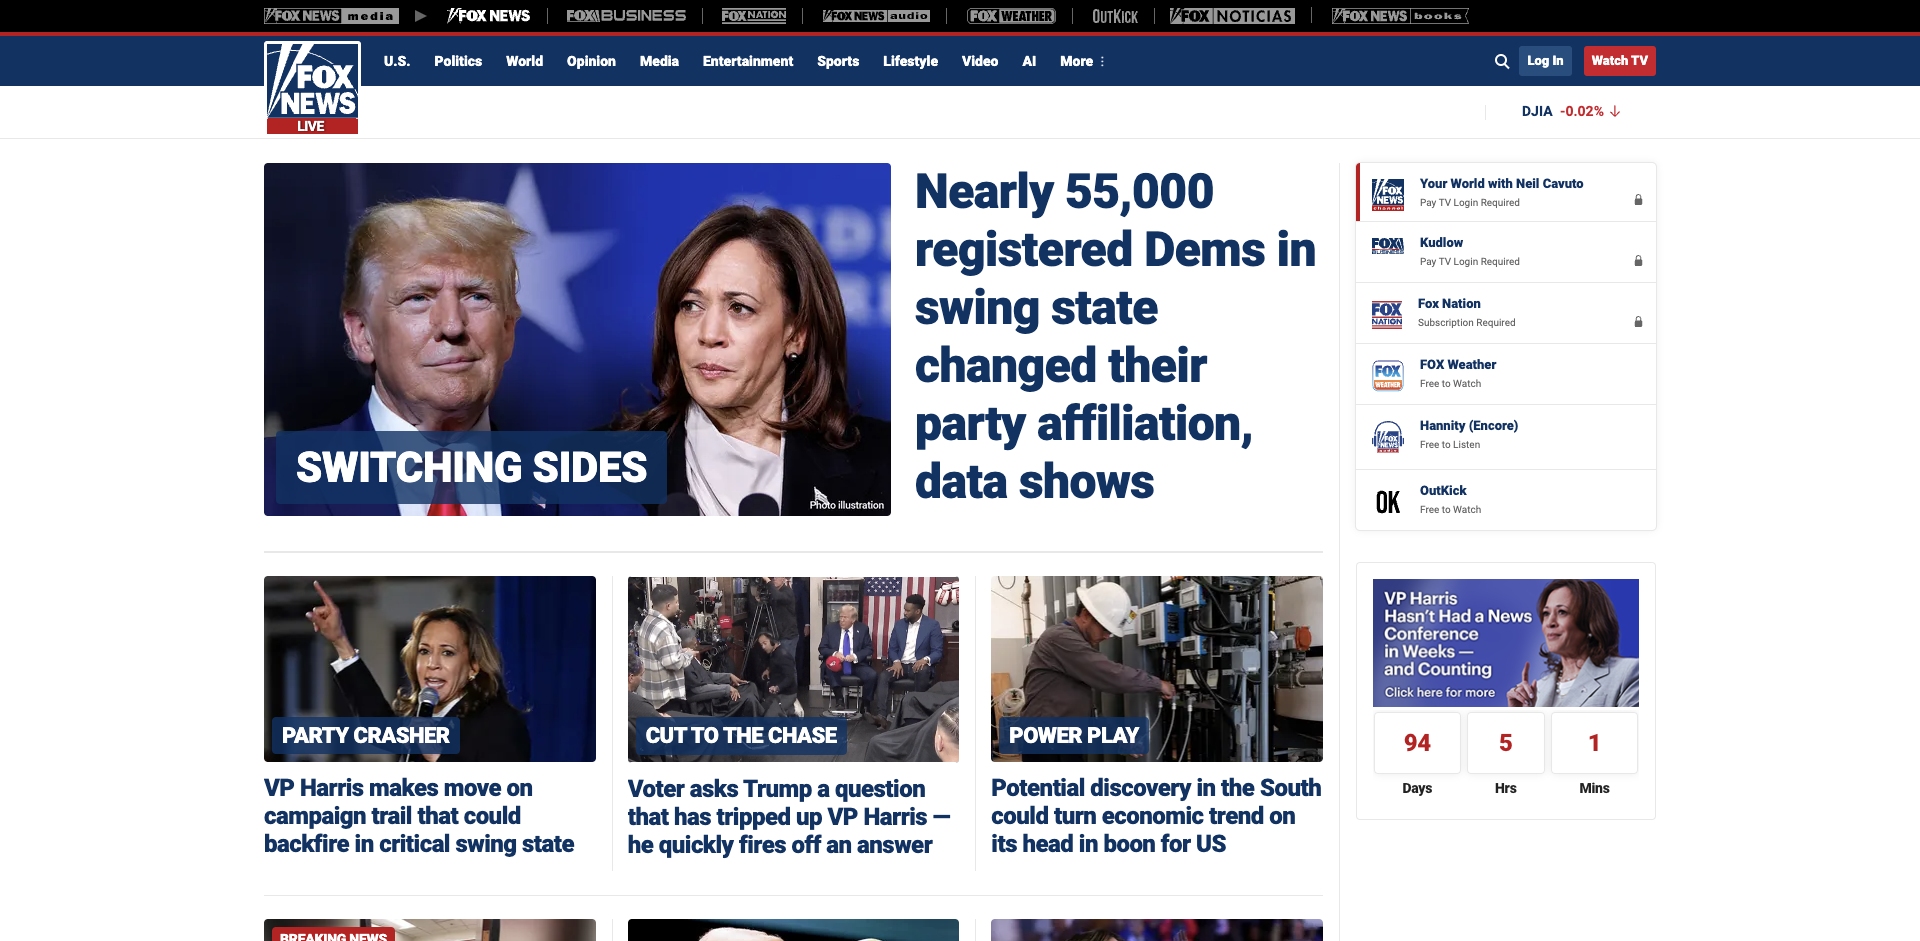button: (1583, 47, 1656, 76), (1520, 47, 1572, 76)
link: (264, 163, 891, 516), (915, 163, 1316, 510), (264, 576, 595, 762), (628, 576, 959, 762), (992, 576, 1322, 762), (992, 774, 1321, 859), (628, 774, 950, 859), (264, 774, 574, 859), (1356, 406, 1656, 469), (1356, 222, 1656, 282), (1356, 283, 1656, 343), (1356, 344, 1656, 404), (1356, 470, 1656, 531), (1356, 163, 1656, 221), (264, 40, 361, 137), (264, 919, 595, 941), (628, 919, 959, 941), (992, 919, 1322, 941), (1373, 692, 1640, 711), (693, 47, 803, 75), (1331, 9, 1469, 25), (1583, 47, 1656, 76), (873, 47, 948, 75), (1169, 9, 1294, 25), (557, 47, 626, 75), (425, 47, 492, 75), (807, 47, 869, 75), (1051, 47, 1113, 75), (629, 47, 689, 75), (496, 47, 553, 75), (951, 47, 1009, 75), (1520, 47, 1572, 76), (1509, 104, 1618, 118), (567, 10, 686, 22), (1510, 104, 1616, 118), (966, 9, 1056, 25), (447, 9, 531, 25), (822, 10, 929, 22), (373, 47, 420, 75), (1522, 104, 1604, 118), (722, 9, 786, 25), (1013, 47, 1046, 75), (1491, 47, 1516, 76), (1092, 9, 1138, 23)
menu_item: (693, 36, 803, 86), (873, 36, 948, 86), (557, 36, 626, 86), (425, 36, 492, 86), (807, 36, 869, 86), (1051, 36, 1113, 86), (629, 36, 689, 86), (496, 36, 553, 86), (951, 36, 1009, 86), (373, 36, 420, 86), (1013, 36, 1046, 86)
